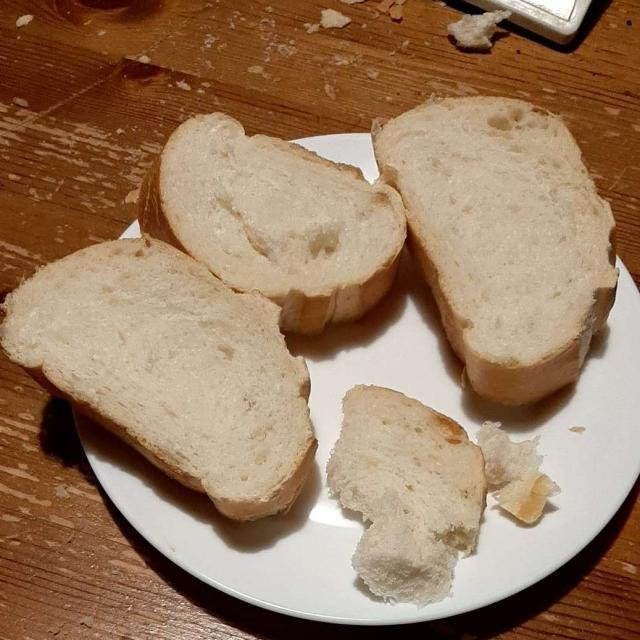bread: (382, 99, 611, 398)
